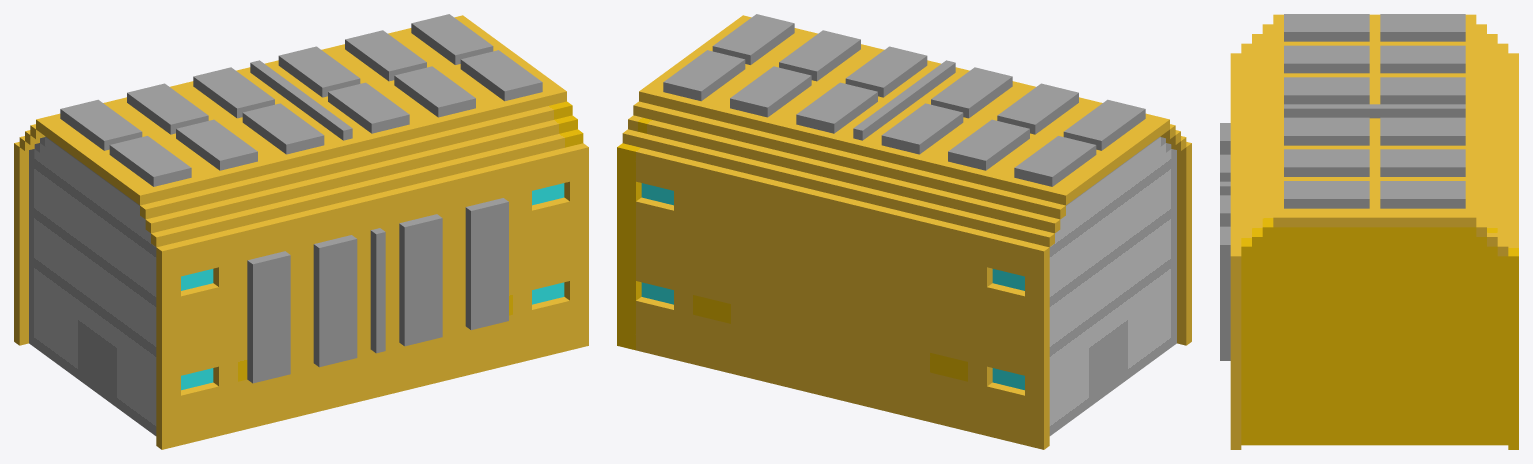
The model's file is Garage.dae.
3 views of the same model, side by side, from view 1: azimuth 30°, elevation 25°; view 2: azimuth 150°, elevation 25°; view 3: azimuth 270°, elevation 25° (orthographic). The views are drawn at different scales.
Visible parts, largest first — view 1: garage.merged; view 2: garage.merged; view 3: garage.merged.
Part boxes in pixels (x1,y1,x2,y2): garage.merged: (14,14,588,449); garage.merged: (617,14,1191,449); garage.merged: (1220,14,1518,449).
Bounding box in the file's own units: 4.5 × 2.5 × 2.8.
Materials: 1 (1 with a texture image).
